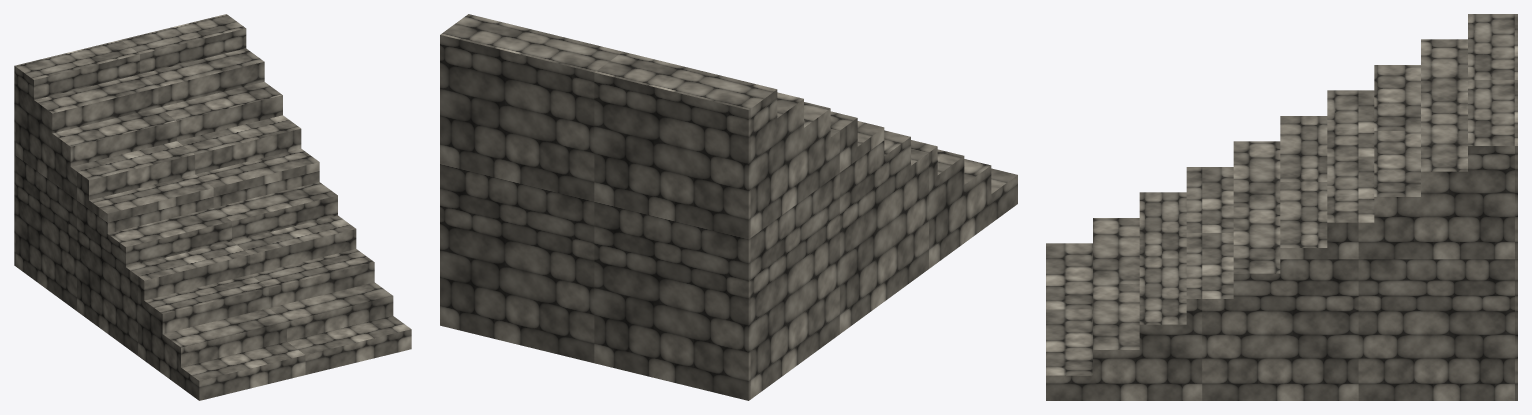
File: Stairs_Street_1_LOD2.gltf
3 views of the same model, side by side, from view 1: azimuth 30°, elevation 25°; view 2: azimuth 150°, elevation 25°; view 3: azimuth 270°, elevation 25° (orthographic). The views are drawn at different scales.
Visible parts, largest first — view 1: Stairs_Street_1_LOD2; view 2: Stairs_Street_1_LOD2; view 3: Stairs_Street_1_LOD2.
Boxes of the visible parts, x1,y1,x2,y2 form: Stairs_Street_1_LOD2: (14, 14, 411, 400); Stairs_Street_1_LOD2: (440, 14, 1017, 400); Stairs_Street_1_LOD2: (1046, 14, 1517, 400).
Bounding box in the file's own units: 2 × 1.8 × 3.02.
1 material, 1 textured.
